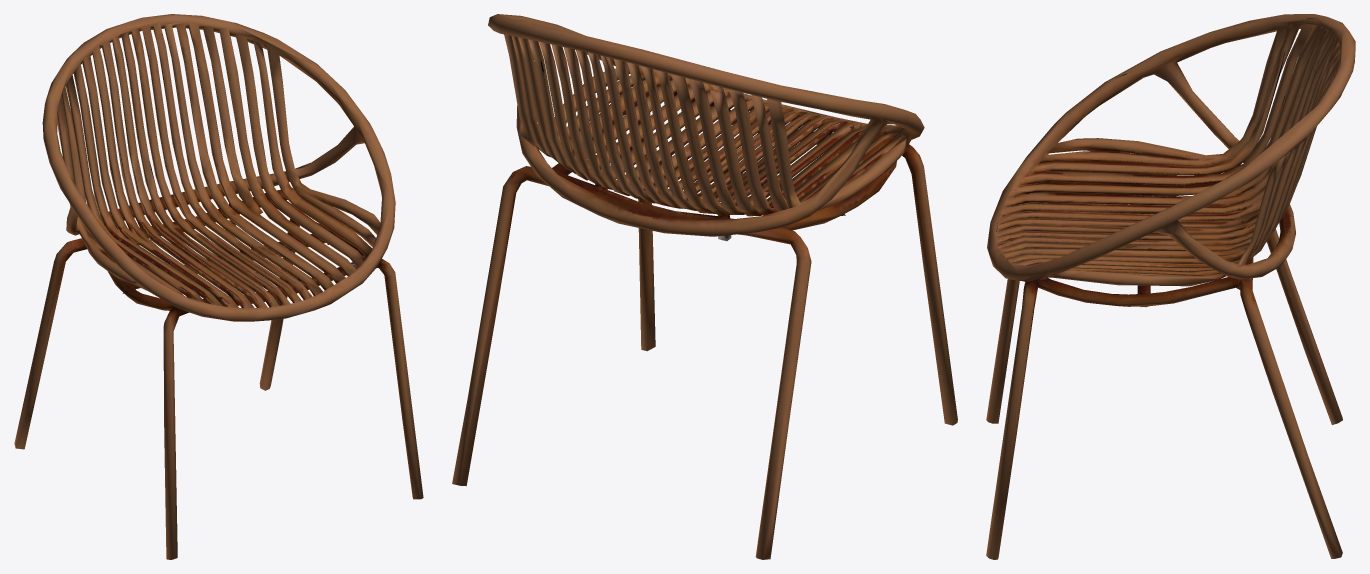
Rendered from chairOutdoor.glb.
The picture shows the model from 3 angles, left to right: view 1: azimuth 30°, elevation 25°; view 2: azimuth 150°, elevation 25°; view 3: azimuth 270°, elevation 25°; orthographic projection. The views are drawn at different scales.
Parts seen in each view (by area): view 1: cb_chair_balfour_t1; view 2: cb_chair_balfour_t1; view 3: cb_chair_balfour_t1.
Boxes of the visible parts, x1,y1,x2,y2 form: cb_chair_balfour_t1: (14, 14, 423, 559); cb_chair_balfour_t1: (452, 14, 957, 559); cb_chair_balfour_t1: (986, 14, 1355, 559).
Bounding box in the file's own units: 0.6234 × 0.781 × 0.5867.
1 material, 1 textured.
